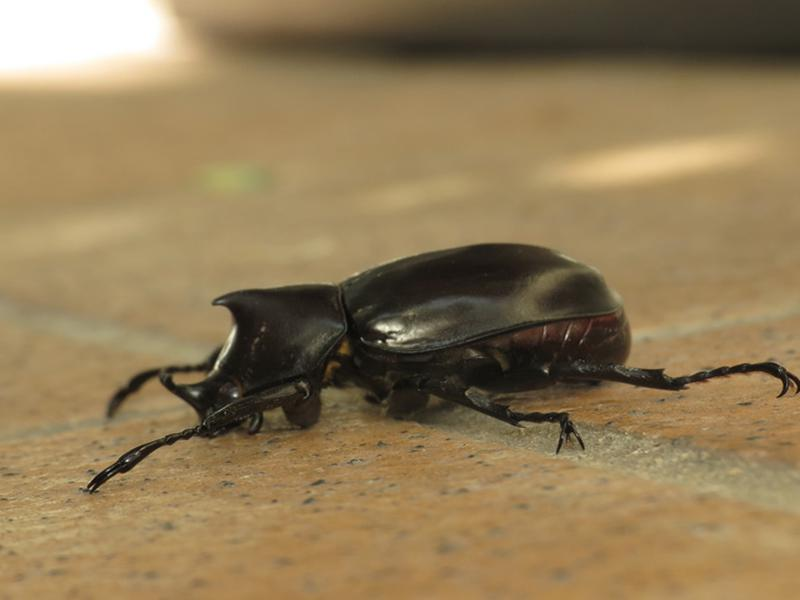Spiny_beetle: (137, 227, 671, 452)
